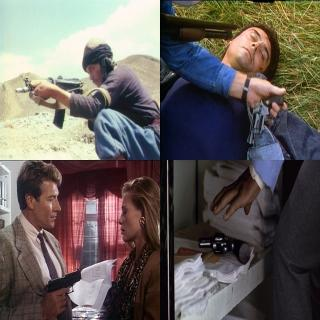gun: (15, 68, 89, 134), (197, 226, 252, 270), (248, 90, 282, 149), (43, 270, 81, 320)
